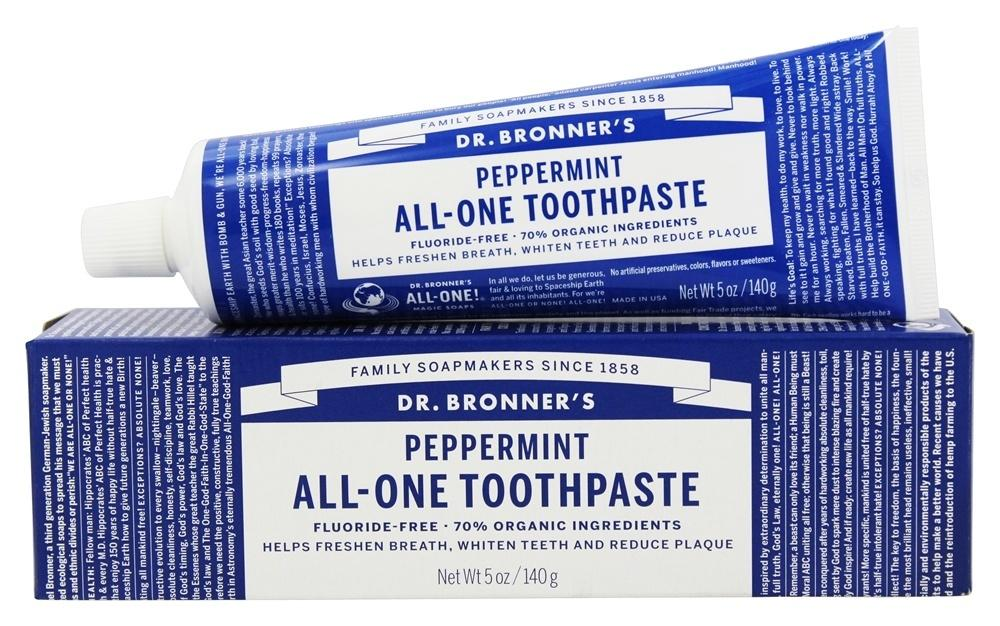toothpaste: (30, 293, 983, 604), (51, 24, 961, 336)
